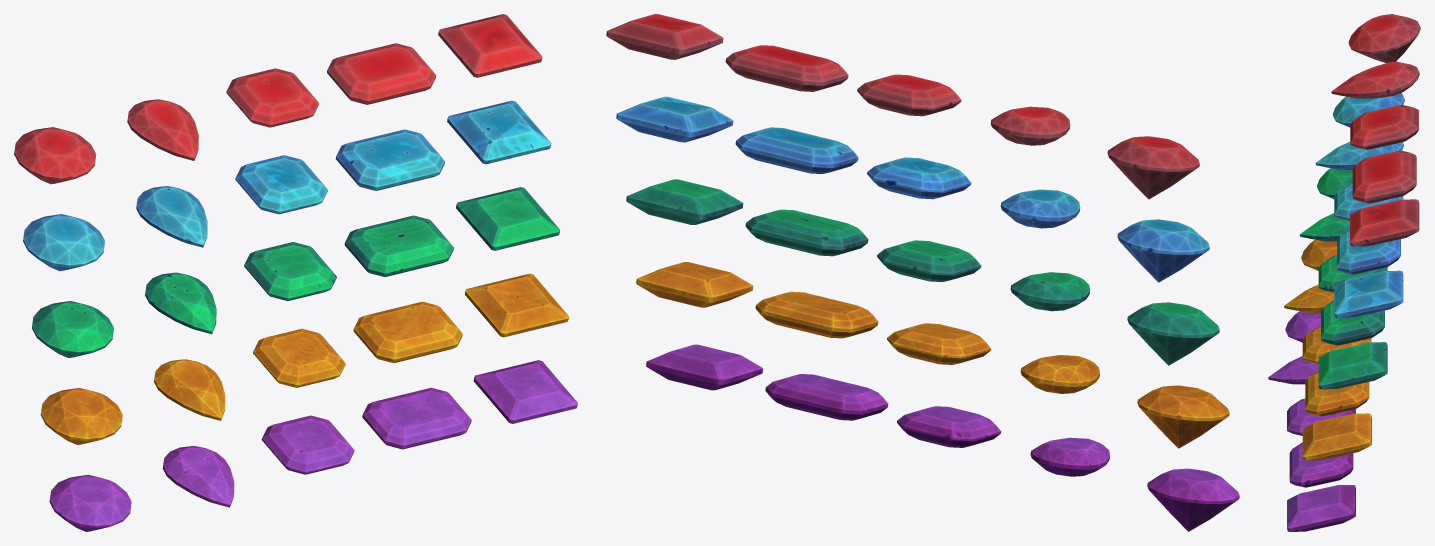
The model's file is gemas.glb.
The picture shows the model from 3 angles, left to right: view 1: azimuth 30°, elevation 25°; view 2: azimuth 150°, elevation 25°; view 3: azimuth 270°, elevation 25°; orthographic projection. The views are drawn at different scales.
Parts seen in each view (by area): view 1: Gemstone_04, Gemstone_04.004, Gemstone_04.001, Gemstone_04.002, Gemstone_04.003, Gemstone_05.004, Gemstone_05, Gemstone_05.003, Gemstone_05.001, Gemstone_05.002, Gemstone_03.003, Gemstone_03.001 (+13 smaller); view 2: Gemstone_04.002, Gemstone_04.001, Gemstone_04, Gemstone_04.004, Gemstone_04.003, Gemstone_01.002, Gemstone_01.001, Gemstone_01.003, Gemstone_01.004, Gemstone_01, Gemstone_05, Gemstone_05.003 (+13 smaller); view 3: Gemstone_04.004, Gemstone_05.001, Gemstone_05.004, Gemstone_05.002, Gemstone_05.003, Gemstone_05, Gemstone_01.004, Gemstone_03.004, Gemstone_02.004, Gemstone_04.003, Gemstone_04.002, Gemstone_04.001 (+13 smaller).
Part boxes in pixels (x1=…): Gemstone_04: x1=362, y1=387, x2=471, y2=449; Gemstone_04.004: x1=327, y1=43, x2=436, y2=104; Gemstone_04.001: x1=353, y1=301, x2=462, y2=363; Gemstone_04.002: x1=344, y1=215, x2=453, y2=276; Gemstone_04.003: x1=335, y1=129, x2=444, y2=190; Gemstone_05.004: x1=438, y1=14, x2=542, y2=77; Gemstone_05: x1=473, y1=360, x2=577, y2=423; Gemstone_05.003: x1=447, y1=100, x2=551, y2=164; Gemstone_05.001: x1=465, y1=273, x2=568, y2=337; Gemstone_05.002: x1=456, y1=187, x2=559, y2=250; Gemstone_03.003: x1=235, y1=155, x2=327, y2=214; Gemstone_03.001: x1=253, y1=328, x2=345, y2=387; Gemstone_04.002: x1=745, y1=209, x2=868, y2=256; Gemstone_04.001: x1=755, y1=291, x2=878, y2=338; Gemstone_04: x1=765, y1=374, x2=888, y2=420; Gemstone_04.004: x1=725, y1=45, x2=848, y2=91; Gemstone_04.003: x1=735, y1=127, x2=858, y2=173; Gemstone_01.002: x1=1127, y1=302, x2=1219, y2=365; Gemstone_01.001: x1=1137, y1=385, x2=1229, y2=448; Gemstone_01.003: x1=1117, y1=219, x2=1209, y2=282; Gemstone_01.004: x1=1107, y1=136, x2=1199, y2=199; Gemstone_01: x1=1147, y1=468, x2=1239, y2=531; Gemstone_05: x1=646, y1=344, x2=763, y2=390; Gemstone_05.003: x1=616, y1=96, x2=733, y2=142; Gemstone_04.004: x1=1352, y1=150, x2=1416, y2=203; Gemstone_05.001: x1=1302, y1=413, x2=1371, y2=460; Gemstone_05.004: x1=1350, y1=199, x2=1419, y2=246; Gemstone_05.002: x1=1318, y1=342, x2=1387, y2=389; Gemstone_05.003: x1=1334, y1=270, x2=1403, y2=317; Gemstone_05: x1=1287, y1=485, x2=1355, y2=531; Gemstone_01.004: x1=1348, y1=14, x2=1420, y2=62; Gemstone_03.004: x1=1350, y1=105, x2=1418, y2=149; Gemstone_02.004: x1=1331, y1=61, x2=1419, y2=98; Gemstone_04.003: x1=1337, y1=229, x2=1400, y2=274; Gemstone_04.002: x1=1321, y1=300, x2=1384, y2=345; Gemstone_04.001: x1=1305, y1=371, x2=1369, y2=416.
Bounding box in the file's own units: 6.58 × 4.66 × 1.93.
Materials: 5 (5 with a texture image).
